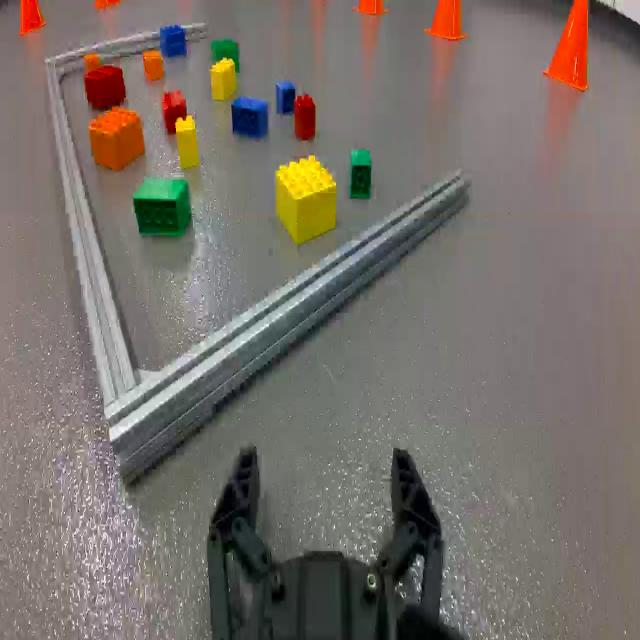block: (277, 156, 336, 245), (174, 118, 200, 170), (210, 58, 237, 99)
blue: (232, 95, 269, 136), (160, 27, 187, 56), (276, 82, 296, 114)
cone: (544, 0, 592, 95), (428, 0, 469, 39), (17, 0, 46, 36), (355, 0, 387, 15), (96, 0, 120, 7)
green: (134, 177, 190, 236), (351, 150, 372, 198), (212, 39, 238, 69)
metal barrier: (46, 19, 469, 487)
orange: (90, 107, 146, 170), (143, 50, 166, 84), (85, 54, 99, 73)
red goal: (85, 64, 126, 109), (295, 94, 316, 142), (163, 92, 186, 134)
